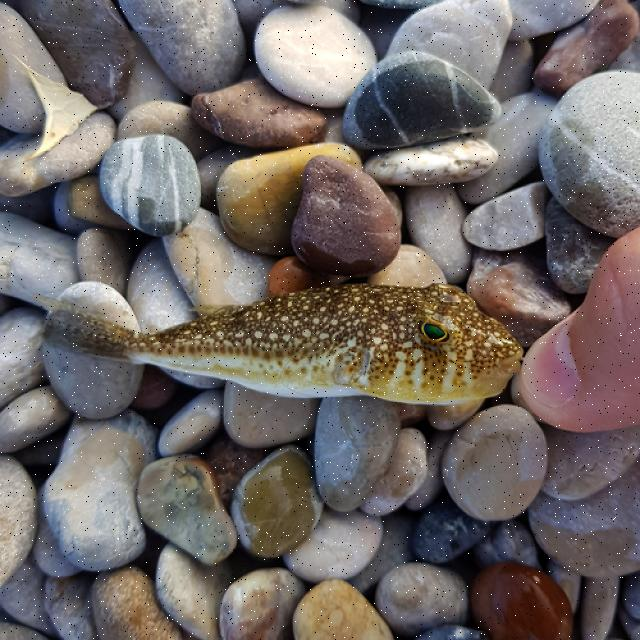Balik: (44, 285, 522, 403)
